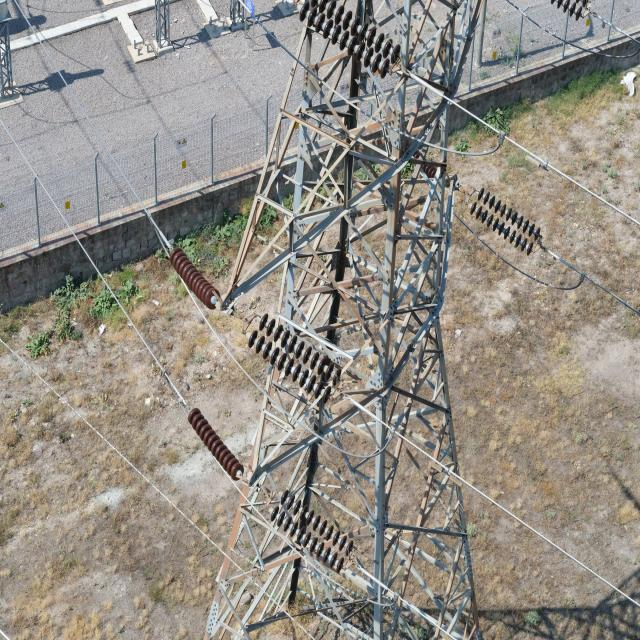direk: (212, 6, 494, 640)
